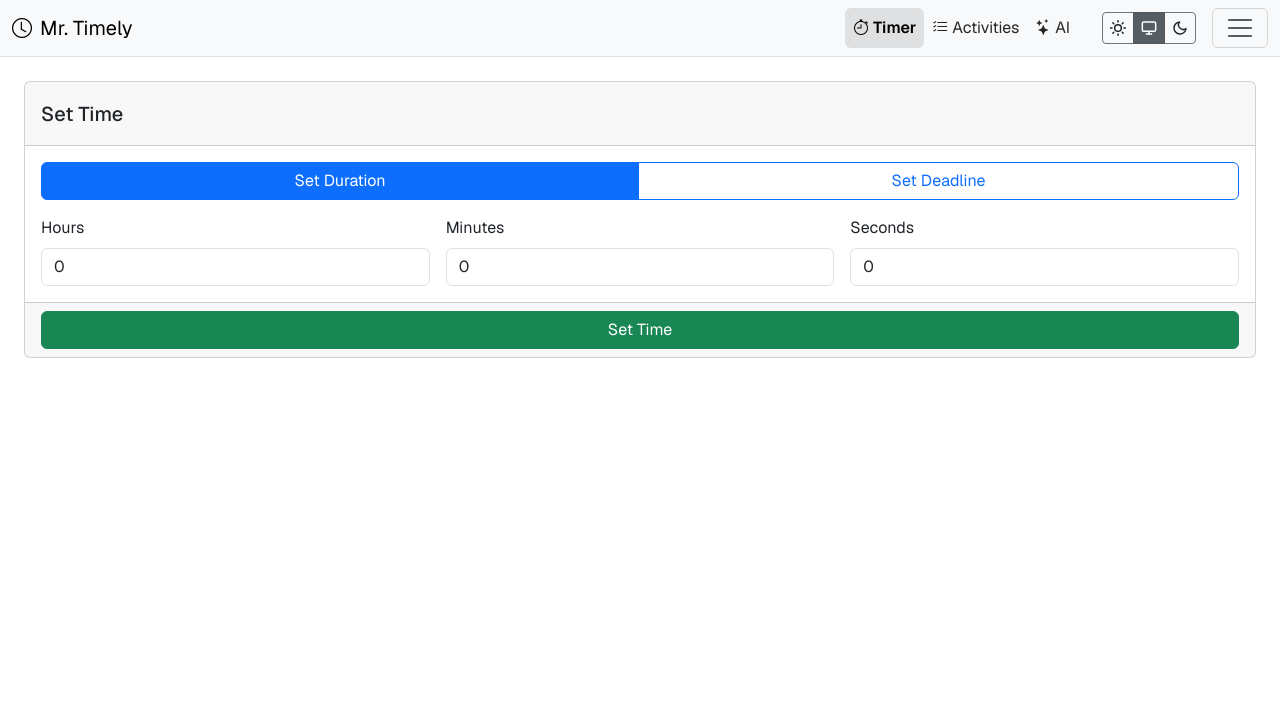
Test: Activity CRUD Operations › Navigation Integration › should navigate to activities page from home
The width and height of the screenshot is (1280, 720).
Click visible Activities link (first one - desktop nav, or only one on mobile)
What coordinates should you click on to do the following:
click the link to "/activities"
I would click on:
 (976, 28)
Its box is [932,17,1019,38].
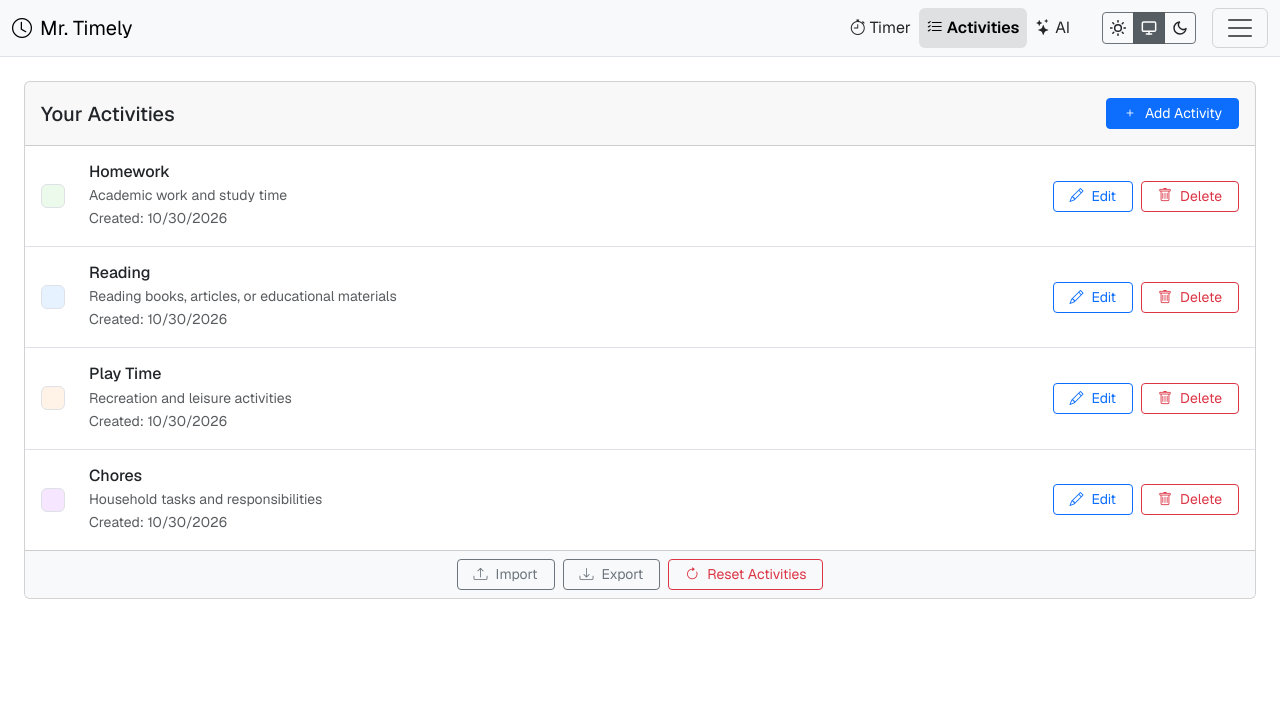
Check: the heading "Your Activities" is shown, box [41,102,175,126]
